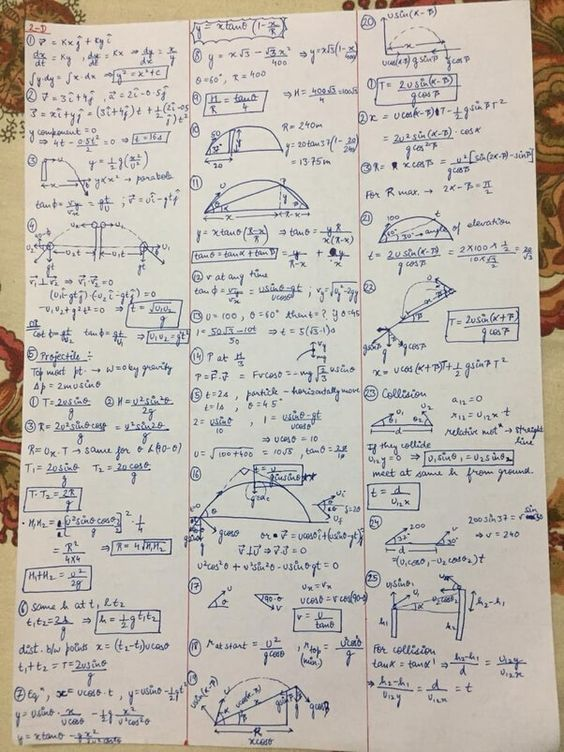page: (29, 24, 535, 745)
